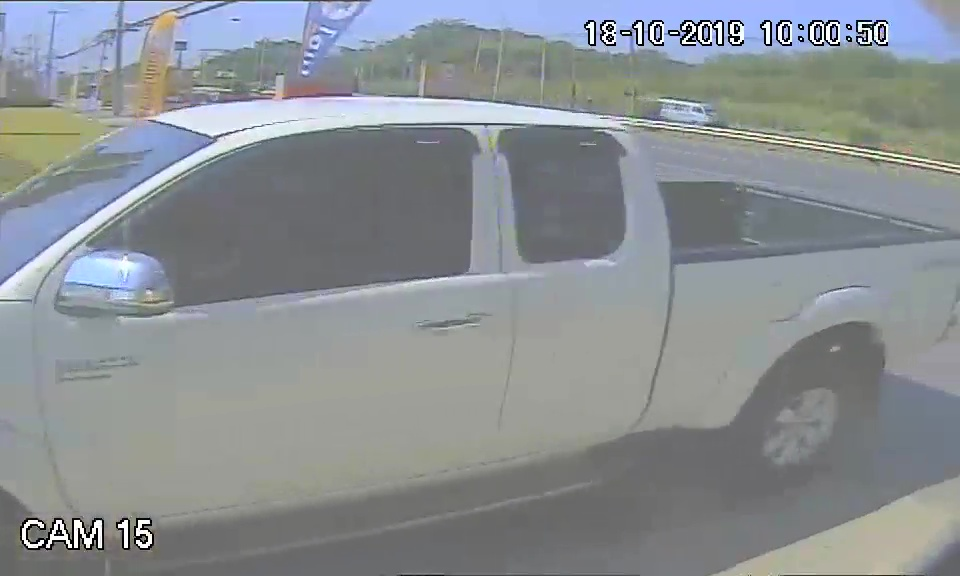pickup: (11, 95, 954, 511)
